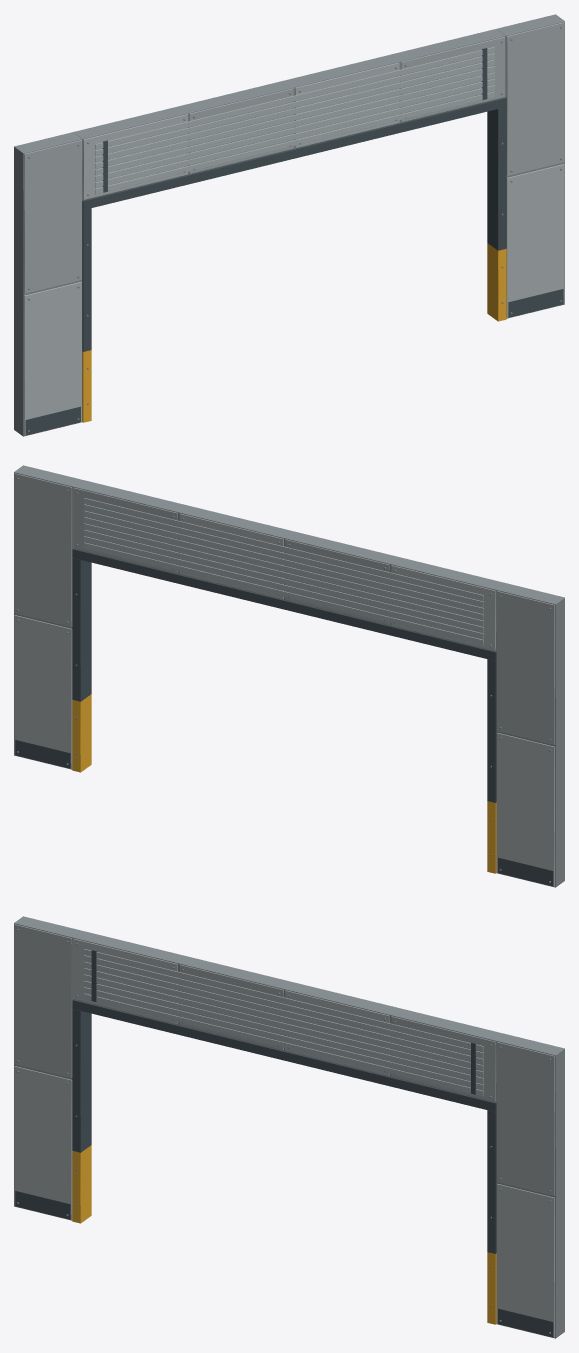
The picture shows the model from 3 angles, top to bottom: view 1: azimuth 30°, elevation 25°; view 2: azimuth 150°, elevation 25°; view 3: azimuth 330°, elevation 25°; orthographic projection.
Visible parts, largest first — view 1: SM_NPP_ServiceBayWall_8m_A; view 2: SM_NPP_ServiceBayWall_8m_A; view 3: SM_NPP_ServiceBayWall_8m_A.
Part boxes in pixels (x1=…): SM_NPP_ServiceBayWall_8m_A: x1=14, y1=14, x2=564, y2=436; SM_NPP_ServiceBayWall_8m_A: x1=14, y1=465, x2=564, y2=887; SM_NPP_ServiceBayWall_8m_A: x1=14, y1=916, x2=564, y2=1338.
Size of the model in its own units: 8 by 4 by 0.3.
